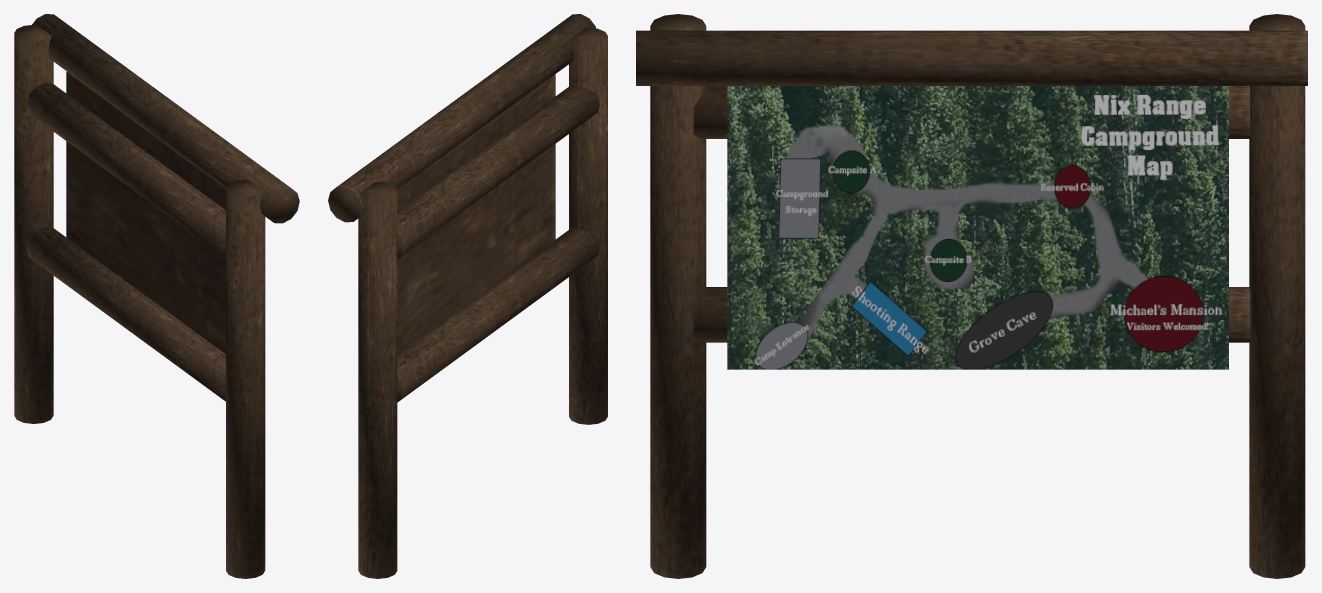
File: CampMap.fbx
The picture shows the model from 3 angles, left to right: view 1: azimuth 30°, elevation 25°; view 2: azimuth 150°, elevation 25°; view 3: azimuth 270°, elevation 25°; orthographic projection. The views are drawn at different scales.
Parts seen in each view (by area): view 1: Camp Map; view 2: Camp Map; view 3: Camp Map.
Boxes of the visible parts, x1,y1,x2,y2 form: Camp Map: (14, 14, 299, 578); Camp Map: (328, 14, 607, 578); Camp Map: (636, 14, 1307, 578).
Bounding box in the file's own units: 123 × 809 × 896.
